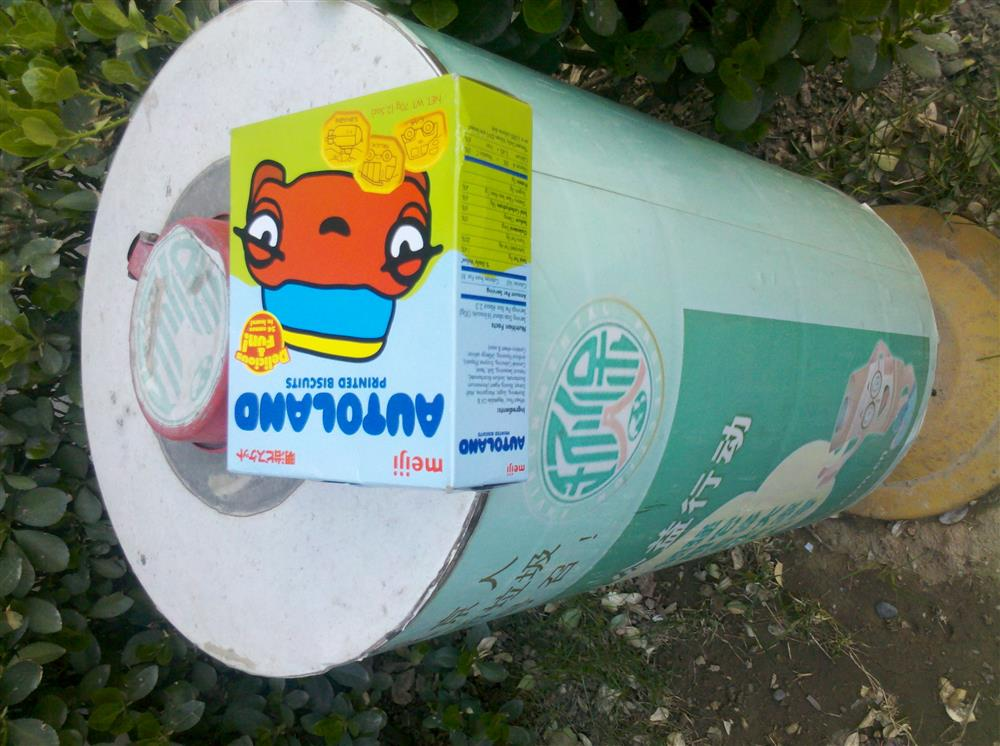Autoland: (230, 75, 540, 478)
